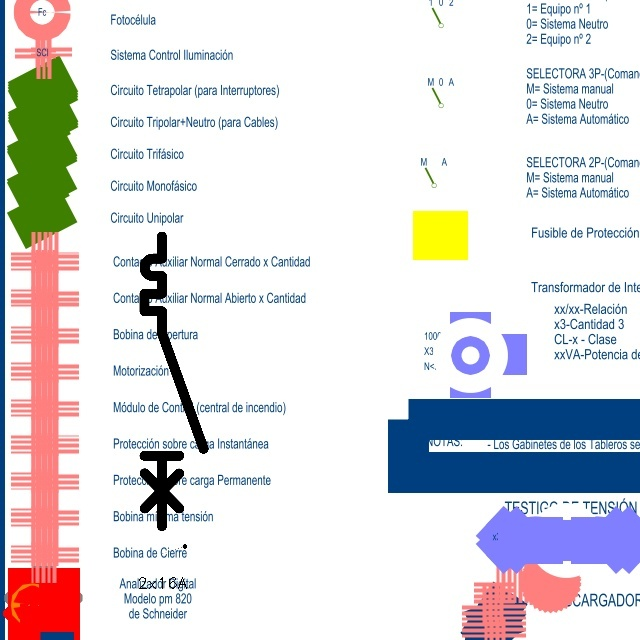interruptor_termomagnetico: (137, 229, 211, 534)
